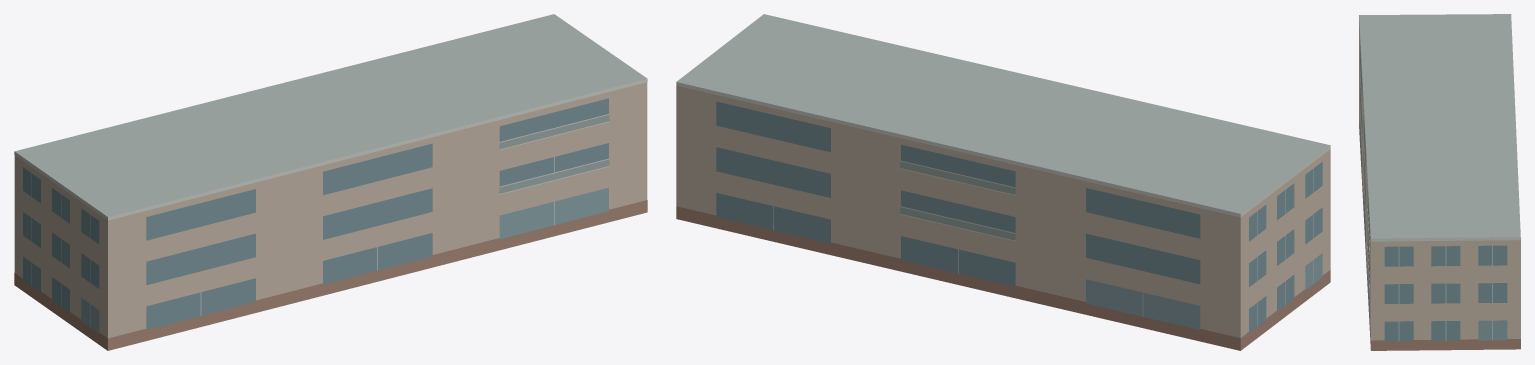
Rendered from survey-upis-32762317.glb.
3 views of the same model, side by side, from view 1: azimuth 30°, elevation 25°; view 2: azimuth 150°, elevation 25°; view 3: azimuth 270°, elevation 25° (orthographic). The views are drawn at different scales.
Visible parts, largest first — view 1: survey-upis-32762317.tmp; view 2: survey-upis-32762317.tmp; view 3: survey-upis-32762317.tmp.
Part boxes in pixels (x1=…): survey-upis-32762317.tmp: x1=14, y1=14, x2=647, y2=350; survey-upis-32762317.tmp: x1=676, y1=14, x2=1330, y2=350; survey-upis-32762317.tmp: x1=1359, y1=14, x2=1520, y2=350.
Bounding box in the file's own units: 39.29 × 9.15 × 11.96.
